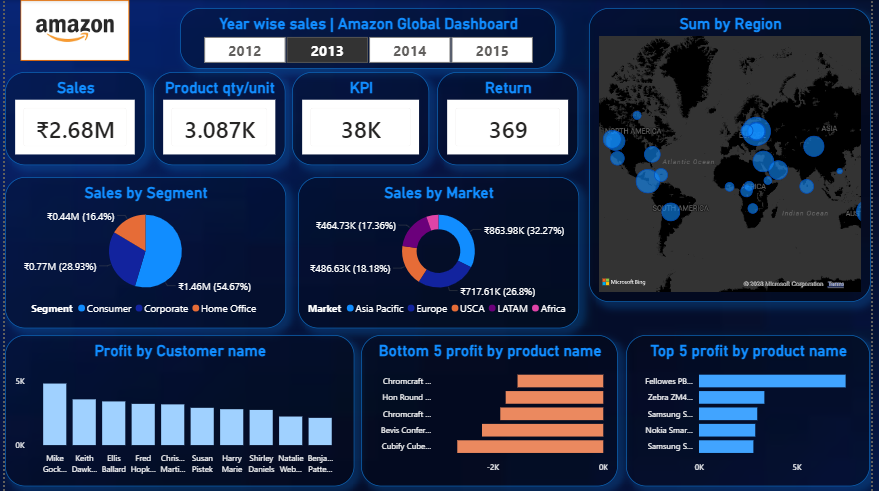

The page's visual inventory and layout, read from the dashboard file:
{"tool":"powerbi","page":{"name":"Page 1","canvas":[1280,728],"ordinal":0},"visuals":[{"type":"slicer","title":"Year wise sales | Amazon Global Dashboard","fields":{"Values":["Orders.Year"]},"box":[258.9,11.8,556.4,90.3],"z":0},{"type":"image","box":[0,0,207.2,90.3],"z":1000},{"type":"cardVisual","title":"Sales","fields":{"Data":["Orders.Sales"]},"box":[0,106.8,207.8,137.6],"z":2000},{"type":"cardVisual","title":"Product qty/unit","fields":{"Data":["Orders.Product Name"]},"box":[219.5,106.8,196.1,137.6],"z":3000},{"type":"cardVisual","title":"KPI ","fields":{"Data":["Orders.Quantity"]},"box":[424.4,106.8,203.4,137.6],"z":4000},{"type":"cardVisual","title":"Return","fields":{"Data":["Orders.Ship Date"]},"box":[639.5,106.8,209.3,137.6],"z":5000},{"type":"pieChart","title":"Sales by Segment","fields":{"Category":["Orders.Segment"],"Y":["Orders.Sales"]},"box":[0,262,415.6,223.9],"z":6000},{"type":"donutChart","title":"Sales by Market","fields":{"Category":["Orders.Market"],"Y":["Orders.Sales"]},"box":[433.2,262,415.6,223.9],"z":7000},{"type":"columnChart","title":"Profit by Customer name","fields":{"Category":["Orders.Customer Name"],"Y":["Orders.Profit"]},"box":[0,496.1,516.6,223.9],"z":8000},{"type":"clusteredBarChart","title":"Bottom 5 profit by product name","fields":{"Category":["Orders.Product Name"],"Y":["Orders.Profit"]},"box":[526.8,496.1,380.5,223.9],"z":9000},{"type":"clusteredBarChart","title":"Top 5 profit by product name","fields":{"Category":["Orders.Product Name"],"Y":["Orders.Profit"]},"box":[919,496.1,361.5,223.9],"z":10000},{"type":"map","title":"Sum by Region","fields":{"Category":["Orders.Region"],"Size":["Orders.Sales"]},"box":[863.4,11.7,417.1,434.6],"z":11000}]}

Visuals, with their boxes in screenshot pixels (x1, y1, x2, y2), scaled from the page's 1280x728 canvas onto the 879x491 screenshot:
"Year wise sales | Amazon Global Dashboard" slicer: (178,8,560,69)
image: (0,0,142,61)
"Sales" cardVisual: (0,72,143,165)
"Product qty/unit" cardVisual: (151,72,285,165)
"KPI " cardVisual: (291,72,431,165)
"Return" cardVisual: (439,72,583,165)
"Sales by Segment" pieChart: (0,177,285,328)
"Sales by Market" donutChart: (297,177,583,328)
"Profit by Customer name" columnChart: (0,335,355,486)
"Bottom 5 profit by product name" clusteredBarChart: (362,335,623,486)
"Top 5 profit by product name" clusteredBarChart: (631,335,878,486)
"Sum by Region" map: (593,8,878,301)
